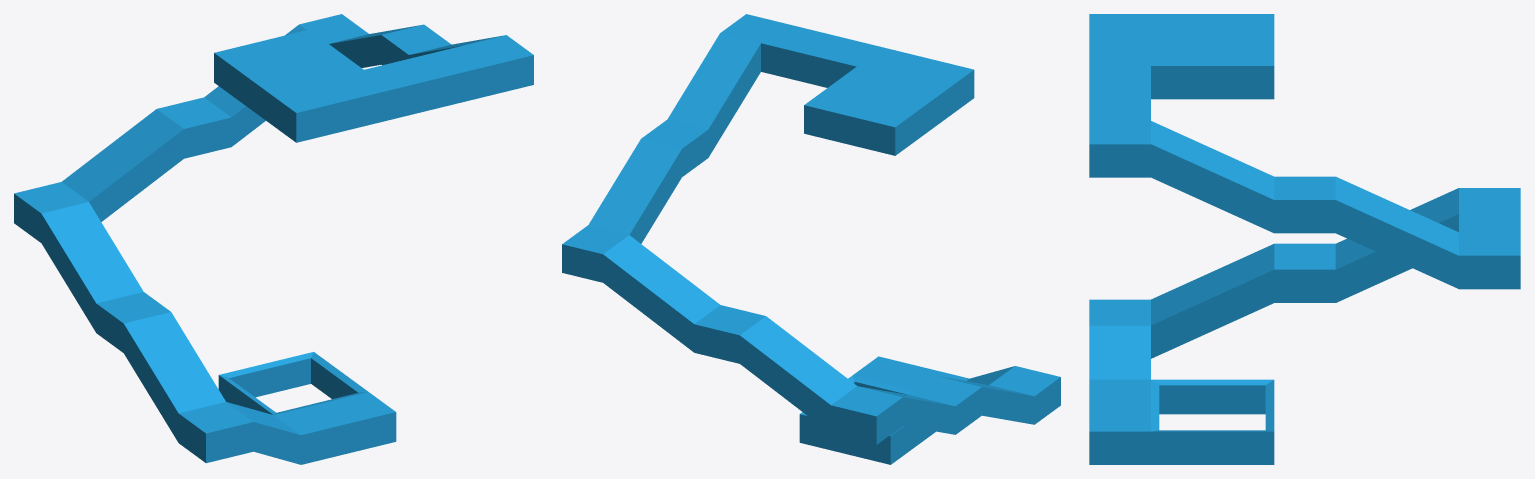
The model's file is model_map_12.fbx.
The picture shows the model from 3 angles, left to right: view 1: azimuth 30°, elevation 25°; view 2: azimuth 150°, elevation 25°; view 3: azimuth 270°, elevation 25°; orthographic projection. The views are drawn at different scales.
Parts seen in each view (by area): view 1: col, lvl; view 2: col, lvl; view 3: col, lvl.
Boxes of the visible parts, x1=… form: col: x1=14, y1=14, x2=533, y2=434; lvl: x1=14, y1=35, x2=533, y2=464; col: x1=562, y1=14, x2=1060, y2=436; lvl: x1=562, y1=43, x2=1060, y2=464; col: x1=1089, y1=14, x2=1520, y2=431; lvl: x1=1089, y1=66, x2=1520, y2=464.
Size of the model in its own units: 690 by 710 by 700.
